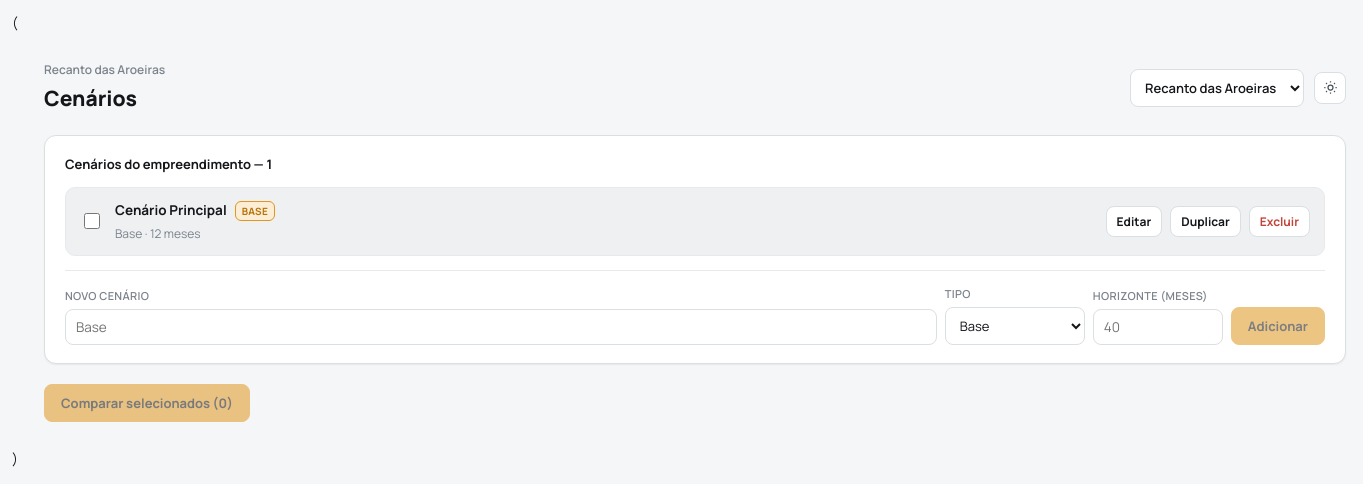
CenariosPage › trocar de empreendimento não deixa cenário do empreendimento anterior visível
Expected: the text "Cenário Principal" is shown, [115, 201, 227, 219]
Select "Torres Alto Padrão" in the 1st dropdown at (1217, 88), box [1130, 69, 1304, 107]
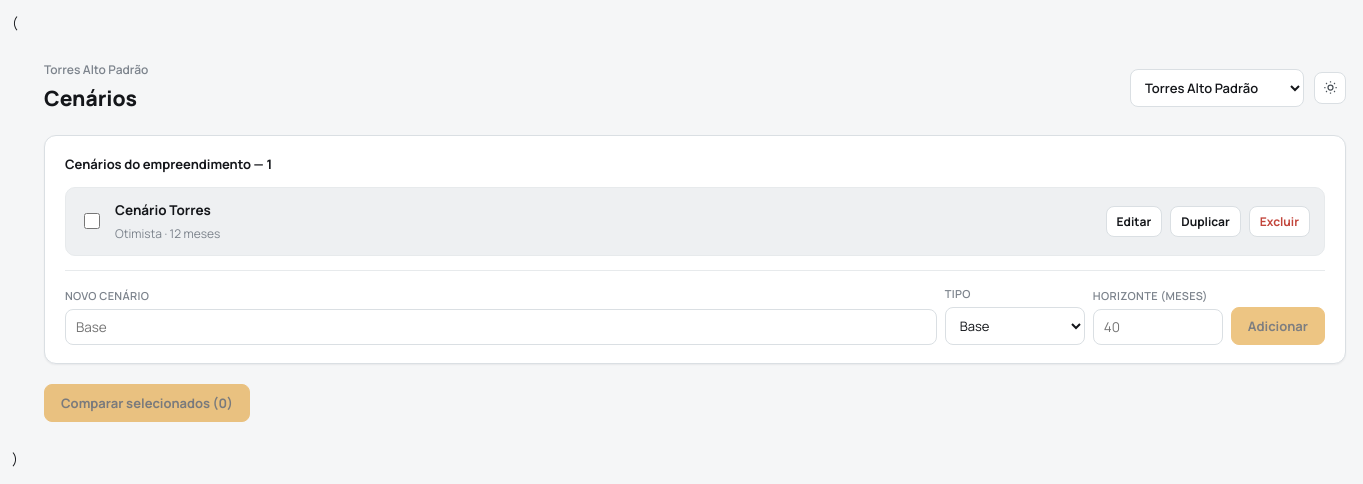
Expected: the text "Cenário Principal" is gone
Expected: the text "Cenário Torres" is shown, [115, 200, 220, 222]
